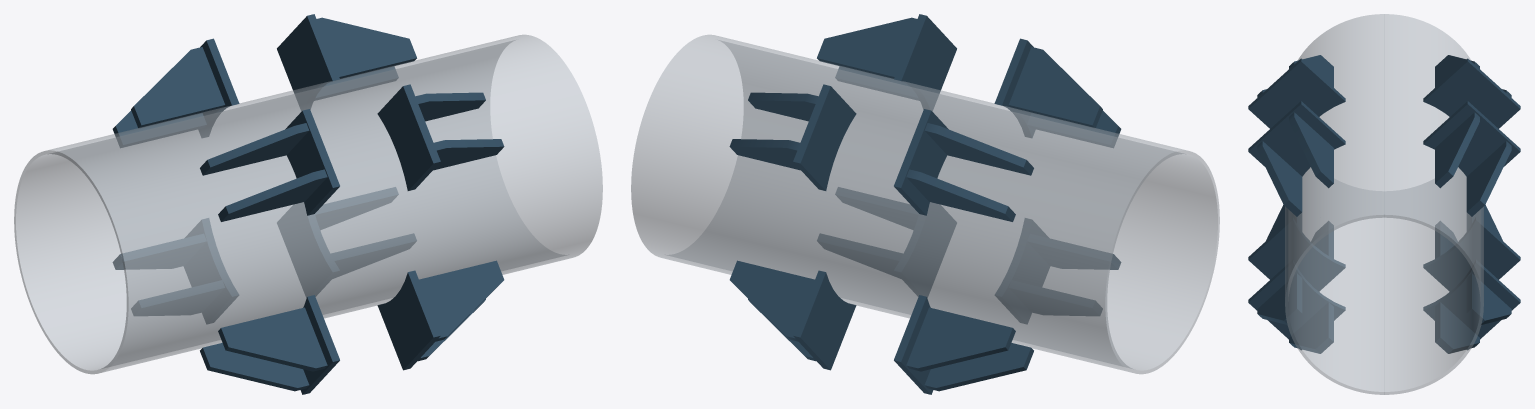
The model's file is TS-661.00.00-06-opora-dn426-ris2.glb.
The picture shows the model from 3 angles, left to right: view 1: azimuth 30°, elevation 25°; view 2: azimuth 150°, elevation 25°; view 3: azimuth 270°, elevation 25°; orthographic projection. The views are drawn at different scales.
Parts seen in each view (by area): view 1: truba, upor_11, upor_24, upor_21, upor_8, upor_1, upor_7, upor_19, upor_13, upor_12, upor_4, upor_16 (+12 smaller); view 2: truba, upor_18, upor_5, upor_2, upor_15, upor_19, upor_13, upor_1, upor_7, upor_17, upor_22, upor_10 (+12 smaller); view 3: truba, upor_4, upor_22, upor_10, upor_16, upor_1, upor_19, upor_7, upor_13, upor_3, upor_20, upor_2 (+11 smaller).
Boxes of the visible parts, x1,y1,x2,y2 form: truba: (14, 34, 602, 374); upor_11: (218, 307, 327, 371); upor_24: (131, 47, 224, 128); upor_21: (316, 17, 416, 79); upor_8: (419, 260, 504, 341); upor_1: (377, 84, 440, 190); upor_7: (377, 270, 440, 370); upor_19: (277, 14, 339, 110); upor_13: (277, 202, 339, 297); upor_12: (200, 343, 309, 391); upor_4: (285, 109, 339, 215); upor_16: (184, 218, 238, 323); truba: (631, 34, 1219, 374); upor_18: (906, 307, 1015, 371); upor_5: (1009, 47, 1102, 128); upor_2: (817, 17, 917, 79); upor_15: (729, 260, 814, 341); upor_19: (793, 84, 856, 190); upor_13: (793, 270, 856, 370); upor_1: (894, 14, 956, 110); upor_7: (894, 202, 956, 297); upor_17: (924, 343, 1033, 391); upor_22: (894, 109, 948, 215); upor_10: (995, 218, 1049, 323); truba: (1285, 14, 1483, 394); upor_4: (1248, 58, 1345, 128); upor_22: (1423, 58, 1520, 128); upor_10: (1248, 217, 1345, 291); upor_16: (1423, 217, 1520, 291); upor_1: (1248, 101, 1345, 176); upor_19: (1423, 101, 1520, 176); upor_7: (1248, 260, 1345, 350); upor_13: (1423, 260, 1520, 350); upor_3: (1257, 141, 1302, 216); upor_20: (1466, 141, 1511, 216); upor_2: (1289, 112, 1333, 188).
Size of the model in its own units: 1018 by 583 by 583.
